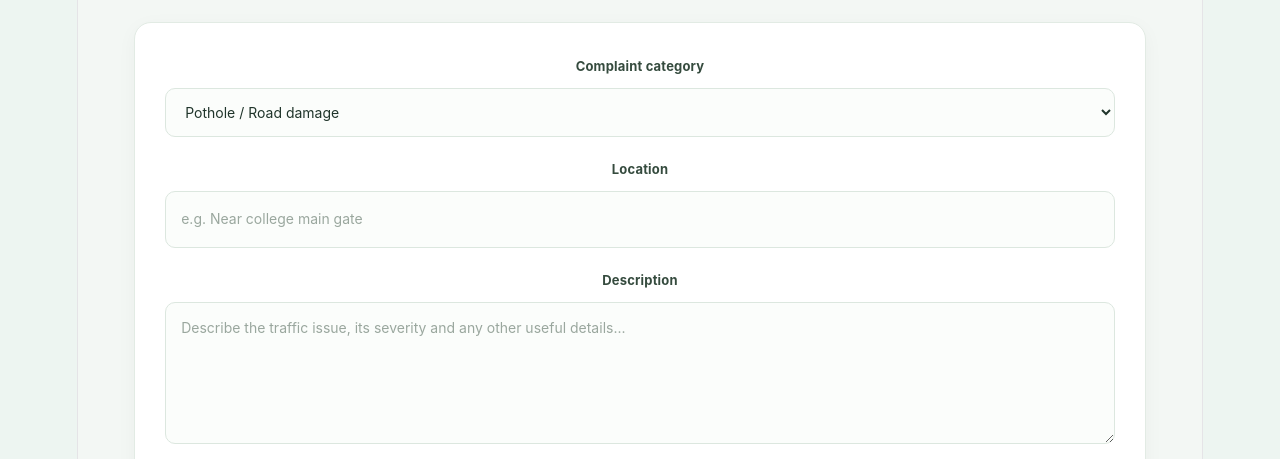
Test: TrafficCare Citizen Dashboard › submits a complaint and displays the AI prediction
(page scrolled)
Type "Main Road" into the field with placeholder "e.g. Near college main gate" at (640,219), box 165,191 -> 1115,248
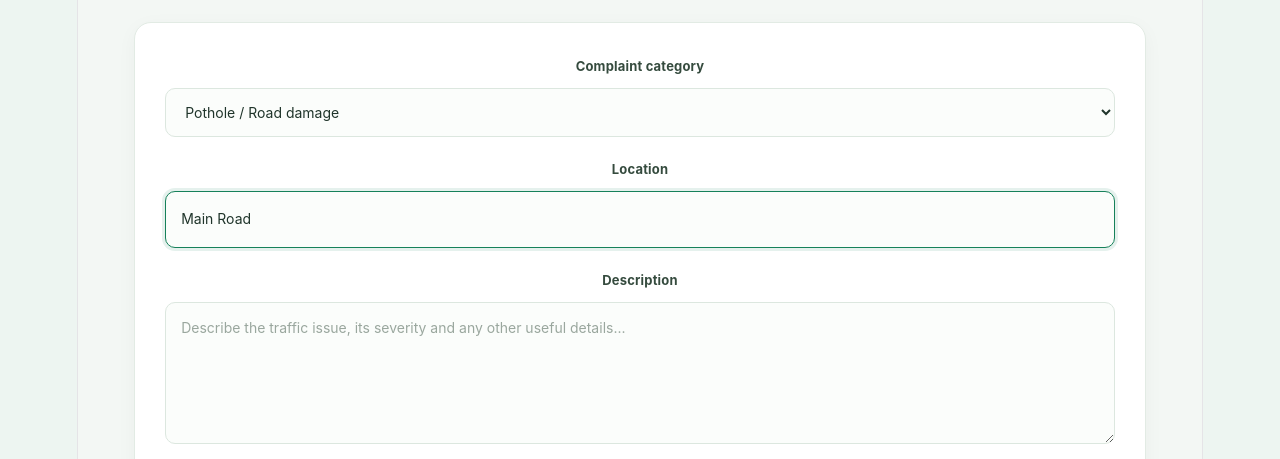
Type "Large pothole on the road" into the text box with placeholder "Describe the traffic issue" at (640,373), box 165,302 -> 1115,444
(page scrolled)
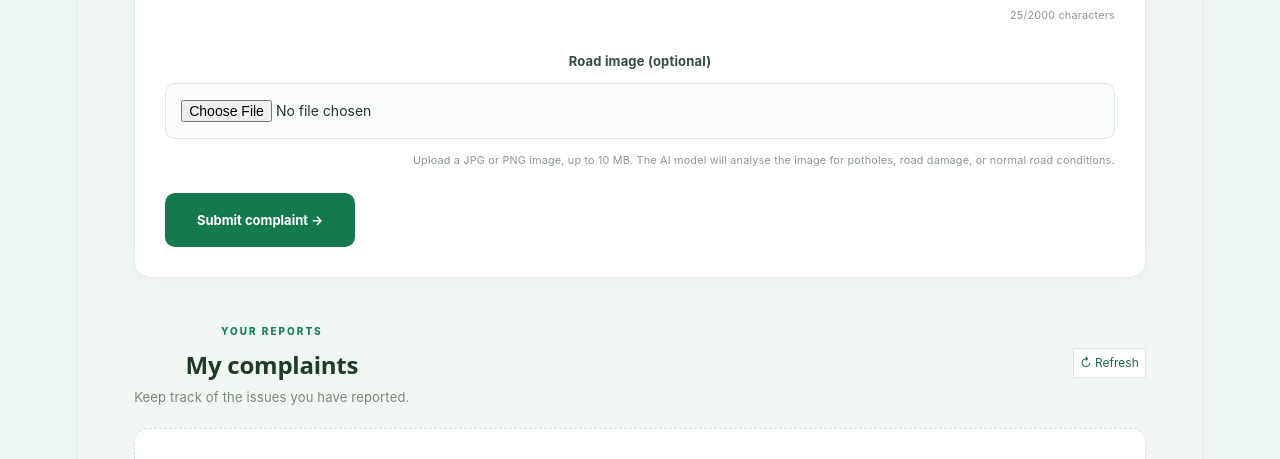
Click the button "Submit complaint →" at (260,220), box 165,193 -> 355,247
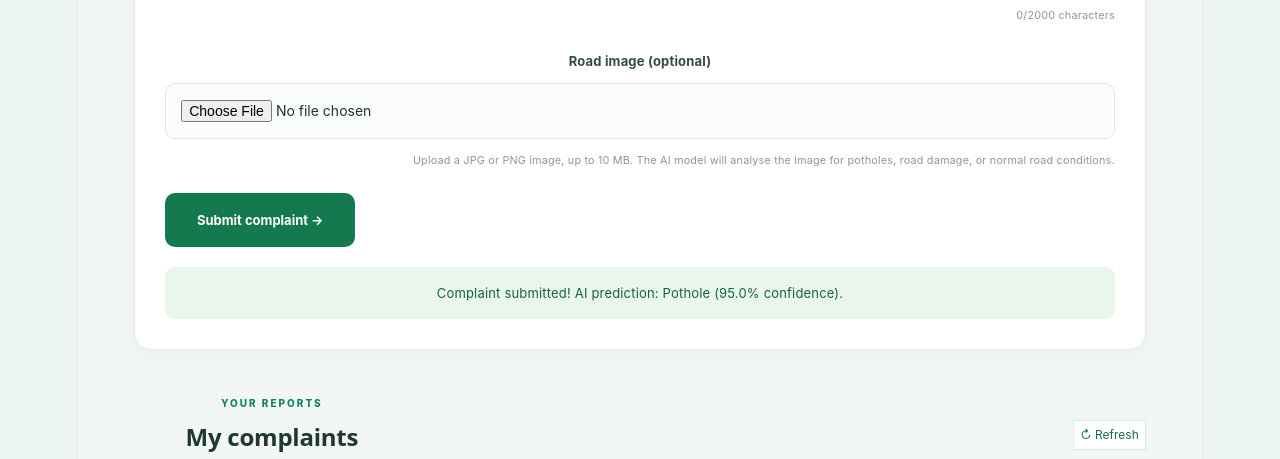
Expected: the message shows "AI prediction: Pothole (95.0% confidence)", 437,285 -> 843,301
